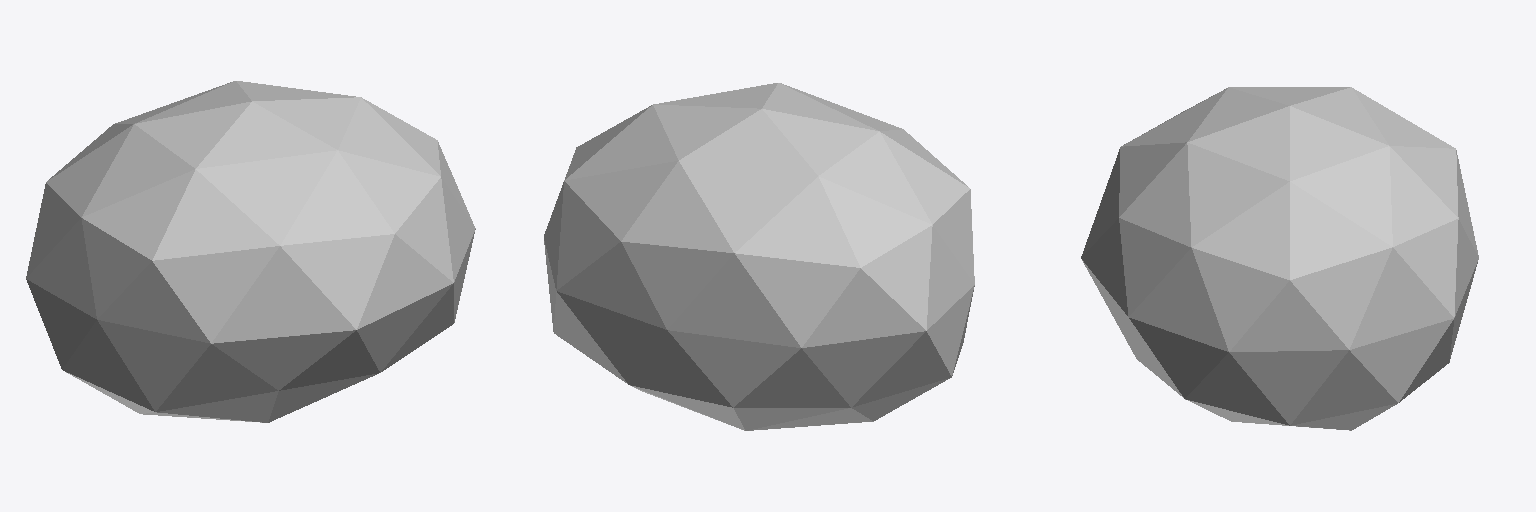
Rendered from asteroid_3.obj.
3 renders of one model, left to right at view 1: azimuth 30°, elevation 25°; view 2: azimuth 150°, elevation 25°; view 3: azimuth 270°, elevation 25°, orthographic.
Parts seen in each view (by area): view 1: Asteroid_3; view 2: Asteroid_3; view 3: Asteroid_3.
Boxes of the visible parts, x1,y1,x2,y2 form: Asteroid_3: [26, 81, 475, 422]; Asteroid_3: [544, 83, 974, 430]; Asteroid_3: [1081, 87, 1478, 430].
Size of the model in its own units: 2.41 by 1.79 by 2.14.